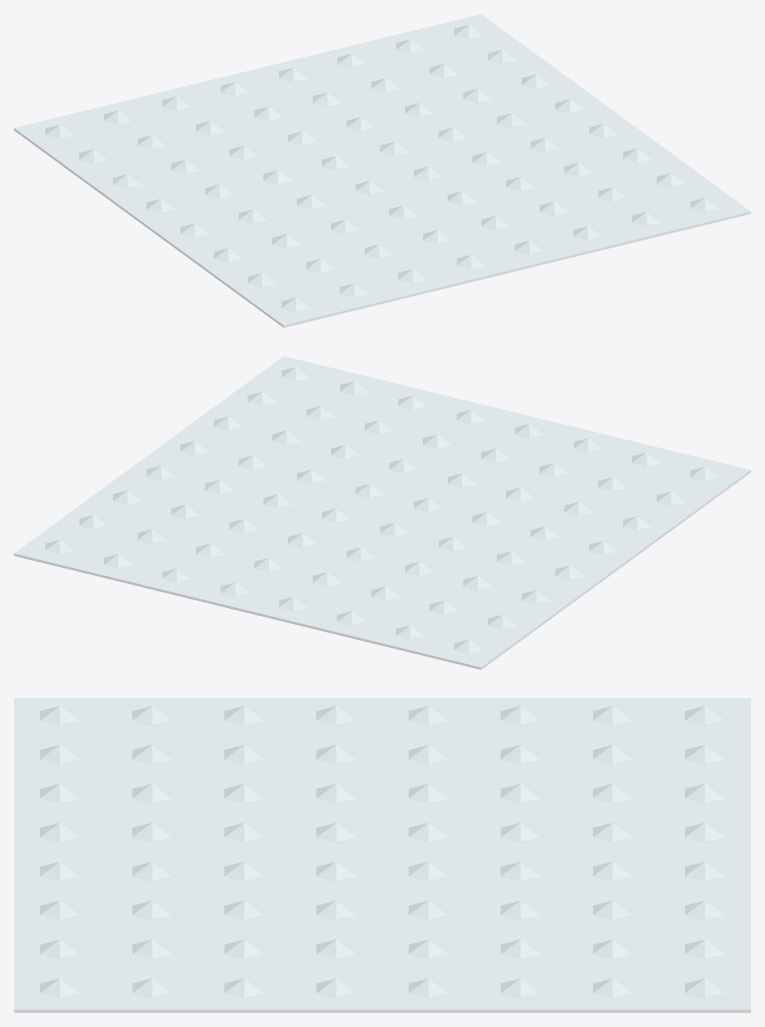
Rendered from tr_bubblewrap.glb.
3 renders of one model, top to bottom at view 1: azimuth 30°, elevation 25°; view 2: azimuth 150°, elevation 25°; view 3: azimuth 270°, elevation 25°, orthographic. The views are drawn at different scales.
Parts seen in each view (by area): view 1: block_wrap; view 2: block_wrap; view 3: block_wrap, block_bubble (×64).
Boxes of the visible parts, x1,y1,x2,y2 form: block_wrap: (14,14,750,327); block_wrap: (14,356,750,669); block_wrap: (14,698,750,1012); block_bubble (×64): (40,706,724,997).
Bounding box in the file's own units: 0.8 × 0.024 × 0.8.
Materials: 1 (1 with a texture image).
